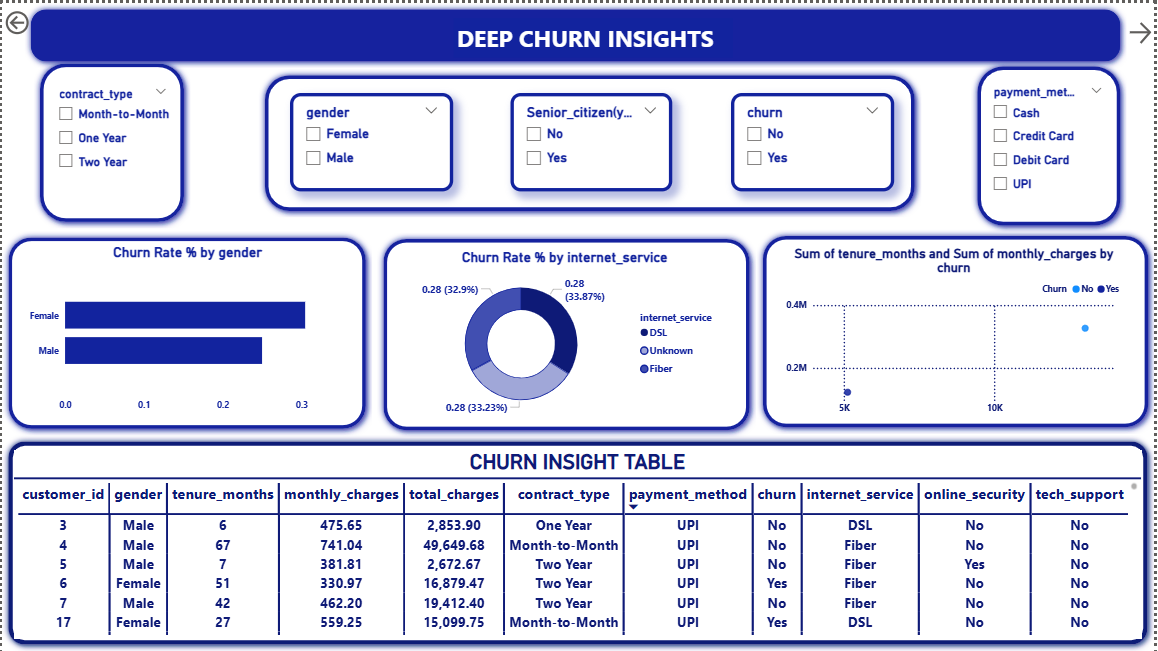

Layout of this report page (visuals, bound fields, positions):
{"tool":"powerbi","page":{"name":"Page 2","canvas":[1600,900],"ordinal":1},"visuals":[{"type":"shape","box":[0,600,1600,300],"z":0},{"type":"shape","box":[1046.9,314.3,553.1,283.7],"z":1000},{"type":"shape","box":[520.4,318.4,526.5,283.7],"z":2000},{"type":"shape","box":[0,316.3,514.3,283.7],"z":3000},{"type":"shape","box":[357.1,91.8,920.4,206.1],"z":4000},{"type":"shape","box":[44,76,218,238],"z":5000},{"type":"shape","box":[30.6,0,1530.6,89.8],"z":6000},{"type":"textbox","box":[626.5,20.4,387.8,55.1],"z":7000},{"type":"slicer","fields":{"Values":["Cust_Churn_Dataset.contract_type"]},"box":[66,110,174,174],"z":8000},{"type":"shape","box":[1344.9,79.6,216.3,238.8],"z":9000},{"type":"slicer","fields":{"Values":["Cust_Churn_Dataset.Senior_citizen(y/n)"]},"box":[706.1,124.5,224.5,136.7],"z":10000},{"type":"slicer","fields":{"Values":["Cust_Churn_Dataset.payment_method"]},"box":[1365.3,108.2,175.5,177.6],"z":11000},{"type":"slicer","fields":{"Values":["Cust_Churn_Dataset.churn"]},"box":[1012.2,124.5,226.5,136.7],"z":12000},{"type":"slicer","fields":{"Values":["Cust_Churn_Dataset.gender"]},"box":[400,124.5,226.5,136.7],"z":13000},{"type":"clusteredBarChart","fields":{"Y":["Cust_Churn_Dataset.Churn Rate %"],"Category":["Cust_Churn_Dataset.gender"]},"box":[30.6,334.7,453.1,240.8],"z":14000},{"type":"donutChart","fields":{"Category":["Cust_Churn_Dataset.internet_service"],"Y":["Cust_Churn_Dataset.Churn Rate %"]},"box":[551,340.8,463.3,240.8],"z":15000},{"type":"scatterChart","fields":{"X":["Sum(Cust_Churn_Dataset.tenure_months)"],"Y":["Sum(Cust_Churn_Dataset.monthly_charges)"],"Series":["Cust_Churn_Dataset.churn"]},"box":[1083.7,336.7,477.6,242.9],"z":16000},{"type":"tableEx","title":"CHURN INSIGHT TABLE","fields":{"Values":["Cust_Churn_Dataset.customer_id","Cust_Churn_Dataset.gender","Cust_Churn_Dataset.tenure_months","Cust_Churn_Dataset.monthly_charges","Cust_Churn_Dataset.total_charges","Cust_Churn_Dataset.contract_type","Cust_Churn_Dataset.payment_method","Cust_Churn_Dataset.churn","Cust_Churn_Dataset.internet_service","Cust_Churn_Dataset.online_security","Cust_Churn_Dataset.tech_support"]},"box":[16.3,620.4,1565.3,261.2],"z":17000},{"type":"actionButton","box":[0,6.7,44.4,42.2],"z":18000},{"type":"actionButton","box":[1560,8.9,40,66.7],"z":19000}]}

Visuals, with their boxes in screenshot pixels (x1, y1, x2, y2), scaled from the page's 1600x900 canvas onto the 1158x651 screenshot:
shape: left=0, top=434, right=1157, bottom=650
shape: left=758, top=227, right=1157, bottom=433
shape: left=377, top=230, right=758, bottom=436
shape: left=0, top=229, right=372, bottom=434
shape: left=258, top=66, right=925, bottom=215
shape: left=32, top=55, right=190, bottom=227
shape: left=22, top=0, right=1130, bottom=65
textbox: left=453, top=15, right=734, bottom=55
slicer - Cust_Churn_Dataset.contract_type: left=48, top=80, right=174, bottom=205
shape: left=973, top=58, right=1130, bottom=230
slicer - Cust_Churn_Dataset.Senior_citizen(y/n): left=511, top=90, right=674, bottom=189
slicer - Cust_Churn_Dataset.payment_method: left=988, top=78, right=1115, bottom=207
slicer - Cust_Churn_Dataset.churn: left=733, top=90, right=897, bottom=189
slicer - Cust_Churn_Dataset.gender: left=290, top=90, right=453, bottom=189
clusteredBarChart - Cust_Churn_Dataset.Churn Rate % x Cust_Churn_Dataset.gender: left=22, top=242, right=350, bottom=416
donutChart - Cust_Churn_Dataset.internet_service x Cust_Churn_Dataset.Churn Rate %: left=399, top=247, right=734, bottom=421
scatterChart - Sum(Cust_Churn_Dataset.tenure_months) x Sum(Cust_Churn_Dataset.monthly_charges): left=784, top=244, right=1130, bottom=419
"CHURN INSIGHT TABLE" tableEx: left=12, top=449, right=1145, bottom=638
actionButton: left=0, top=5, right=32, bottom=35
actionButton: left=1129, top=6, right=1157, bottom=55
